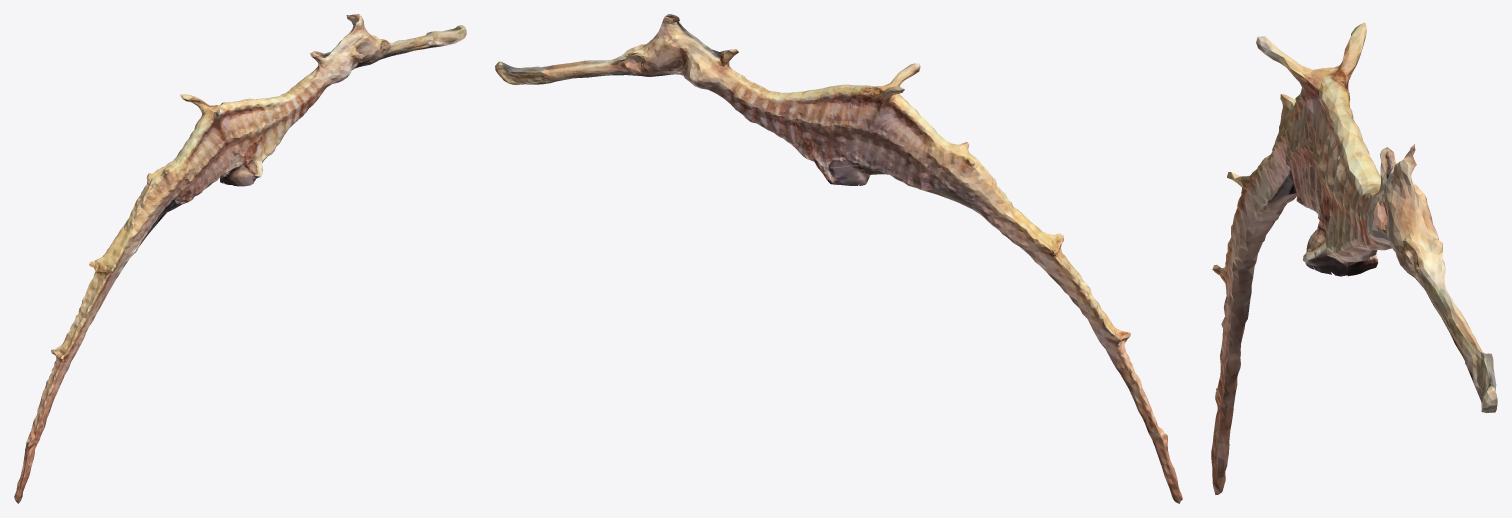
File: Weedy Seadragon.glb
3 views of the same model, side by side, from view 1: azimuth 30°, elevation 25°; view 2: azimuth 150°, elevation 25°; view 3: azimuth 270°, elevation 25° (orthographic). The views are drawn at different scales.
Bounding box in the file's own units: 0.862 × 0.5712 × 0.206.
Materials: 1 (1 with a texture image).
